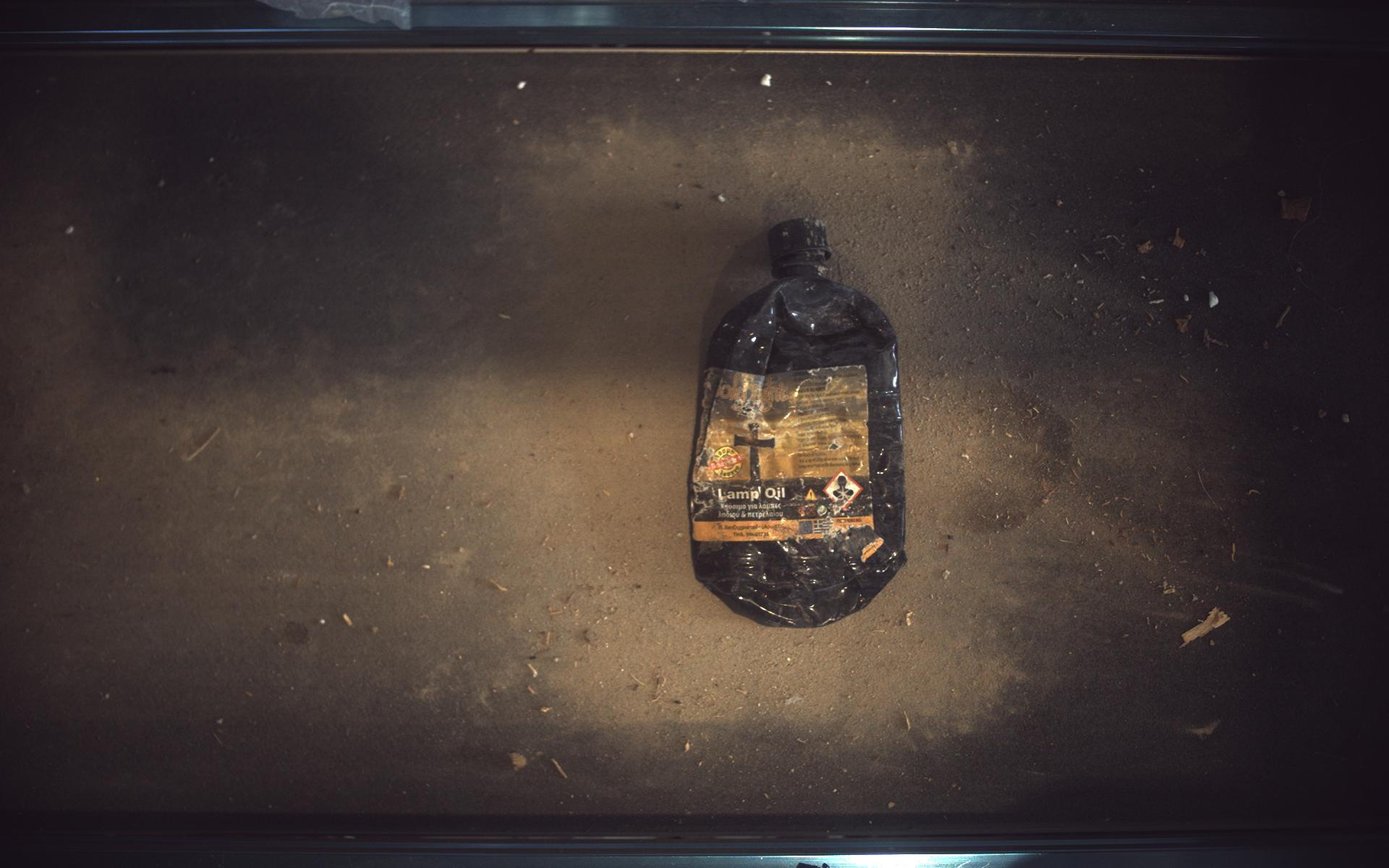general_w: (690, 218, 906, 627)
